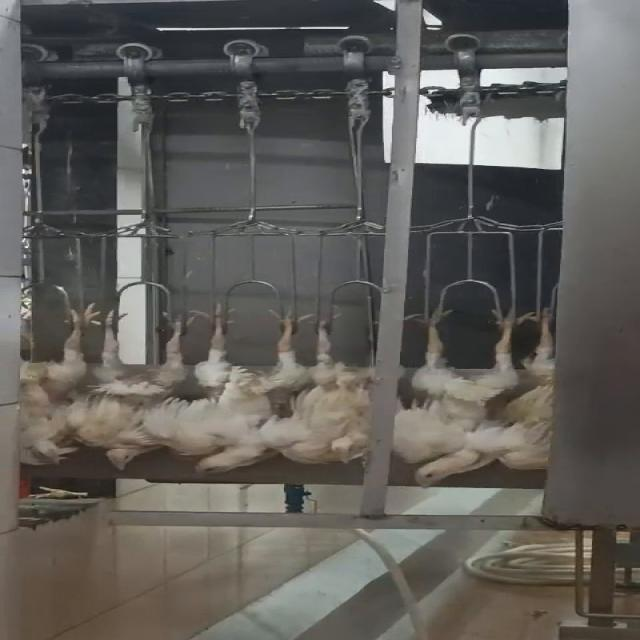chicken: (169, 309, 315, 481), (398, 304, 528, 486), (73, 298, 203, 472), (276, 302, 384, 466), (7, 292, 101, 472), (507, 294, 576, 478)
